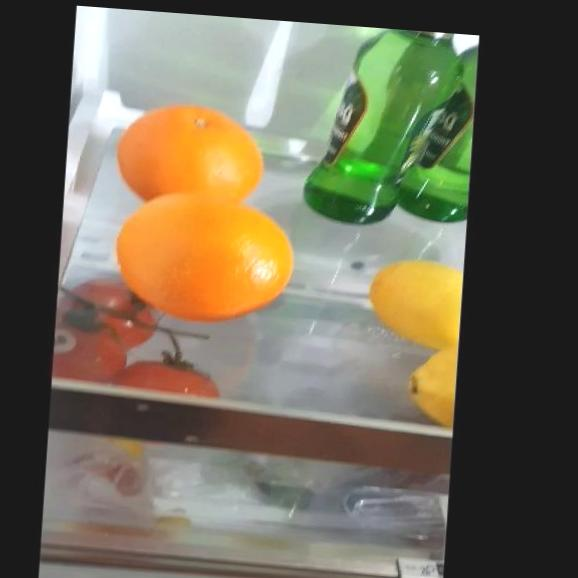lemon: (376, 259, 463, 343)
mineral water: (308, 24, 468, 225)
orange: (112, 198, 298, 323), (114, 101, 272, 209)
